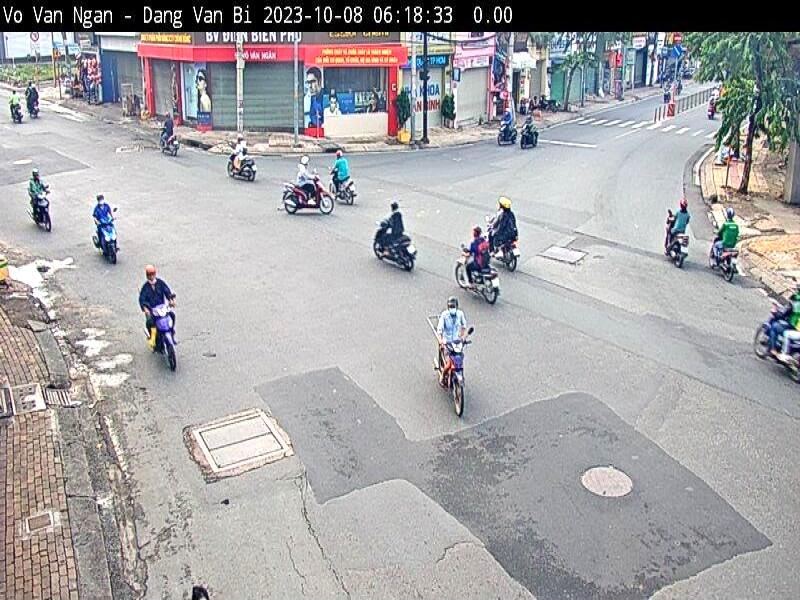motorcycle: (434, 326, 474, 419), (456, 245, 500, 306), (144, 304, 180, 372), (374, 222, 416, 274), (283, 173, 335, 214), (484, 219, 519, 272), (708, 230, 740, 284), (92, 212, 120, 266), (664, 214, 690, 269), (26, 189, 52, 232), (228, 150, 258, 182), (329, 169, 356, 204), (159, 127, 179, 158), (497, 120, 519, 146)
